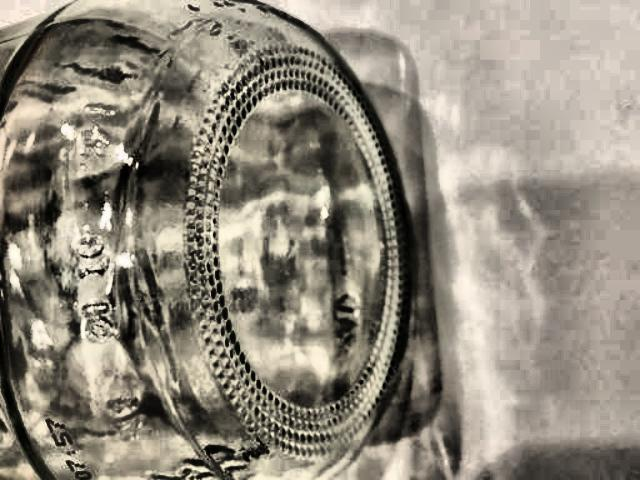Almennt: (0, 0, 424, 480)
